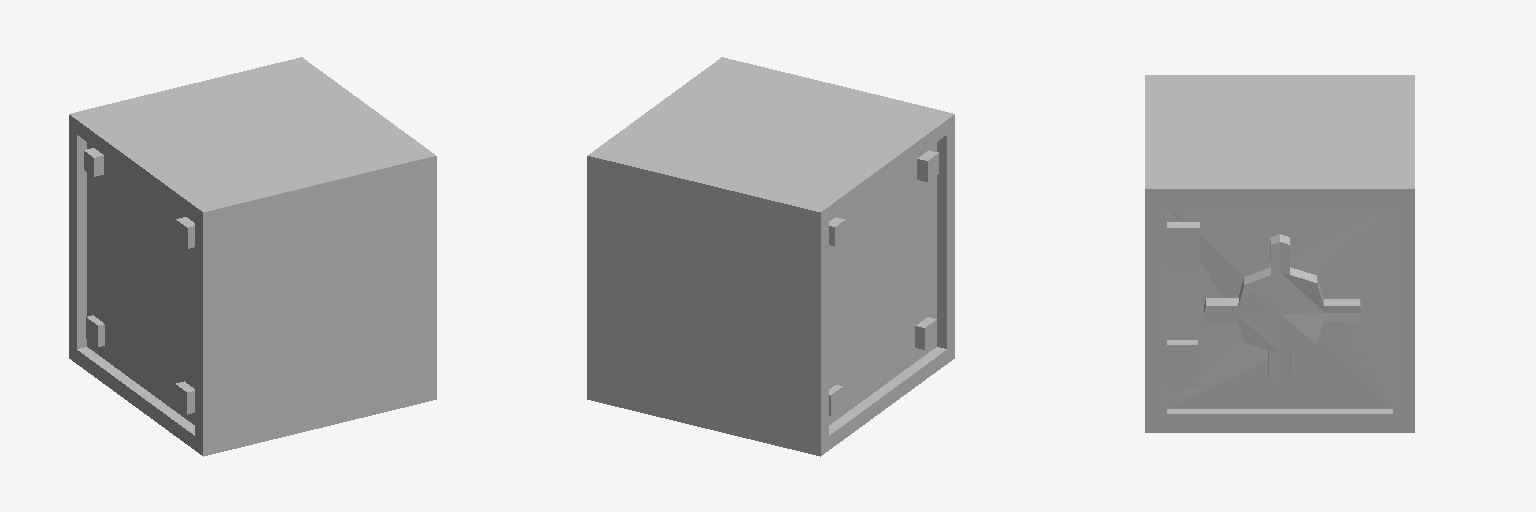
The model's file is vault.obj.
3 views of the same model, side by side, from view 1: azimuth 30°, elevation 25°; view 2: azimuth 150°, elevation 25°; view 3: azimuth 270°, elevation 25° (orthographic).
Parts seen in each view (by area): view 1: Cube; view 2: Cube; view 3: Cube.
Boxes of the visible parts, x1=… form: Cube: x1=69, y1=57, x2=436, y2=456; Cube: x1=587, y1=57, x2=954, y2=456; Cube: x1=1145, y1=75, x2=1414, y2=432.
Size of the model in its own units: 2.62 by 2.54 by 2.54.